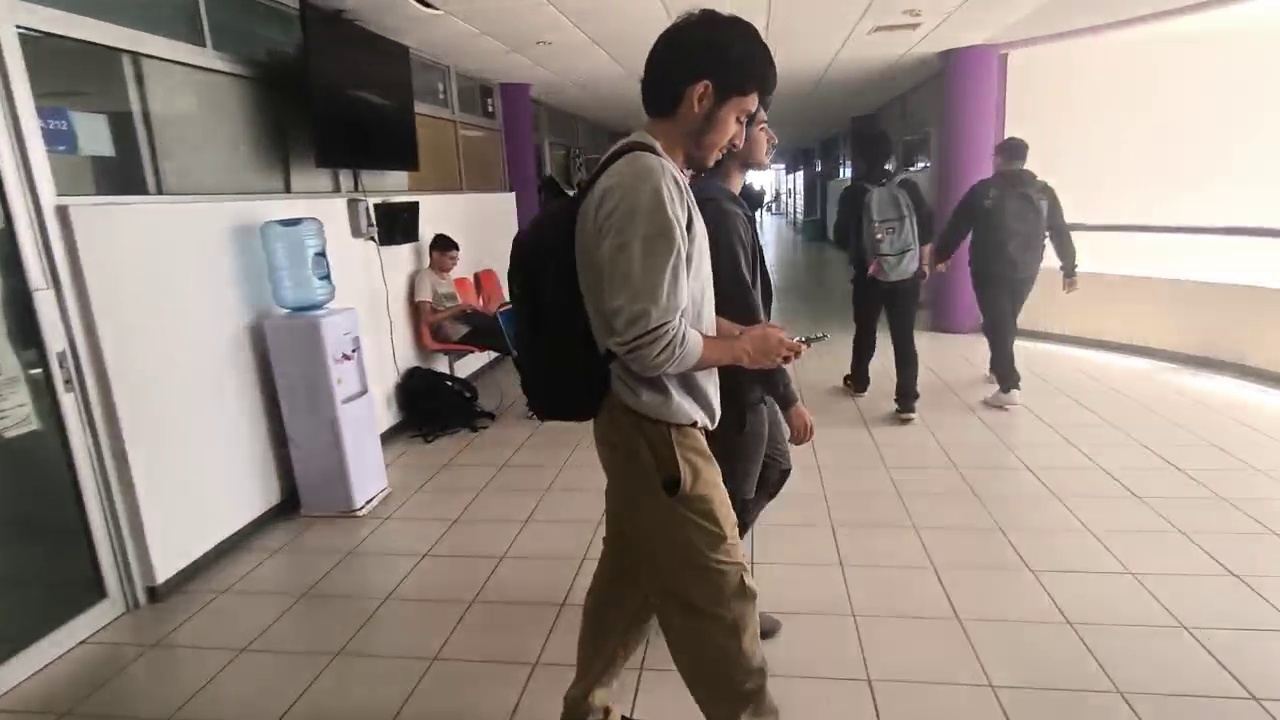mixto2: (782, 325, 839, 351)
